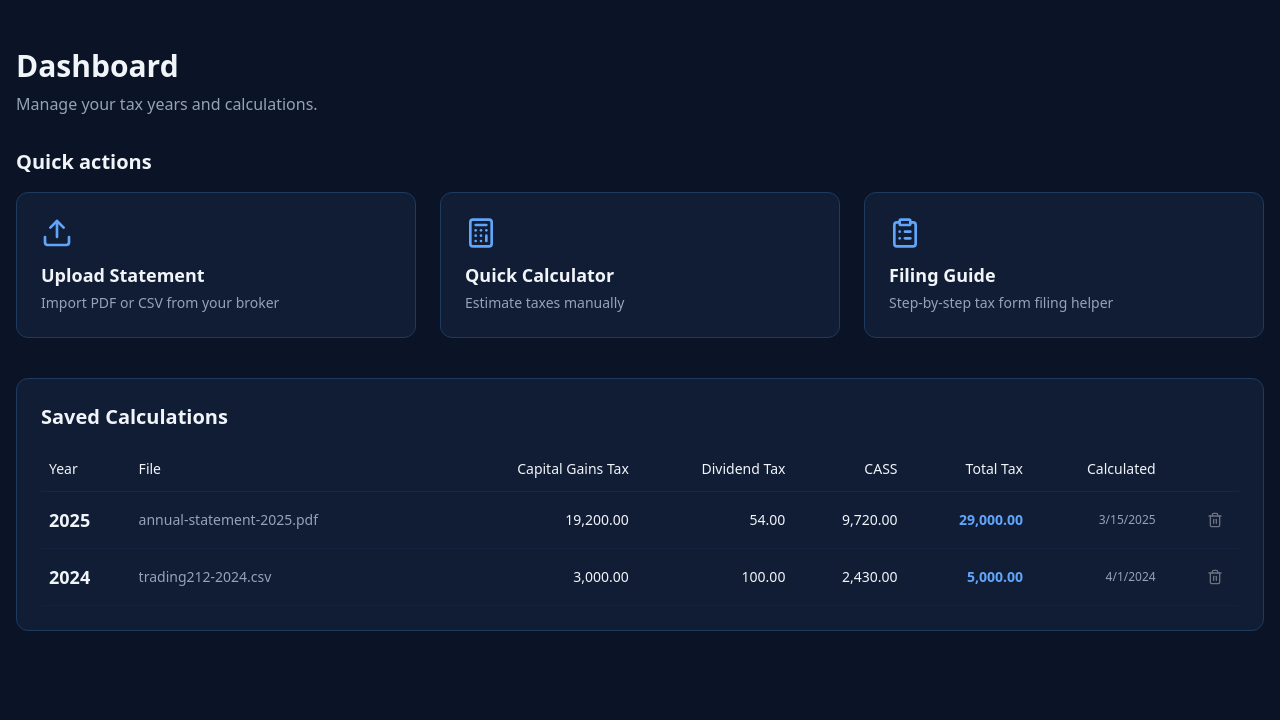
Scenario: Dashboard › deletes a tax year when delete button is clicked
Check: the text "2025" is shown, box [41,492,131,548]
Click first delete button
Click the button titled "Delete" in the row of "annual-statement-2025.pdf" at (1215, 520), box [1199,504,1231,536]
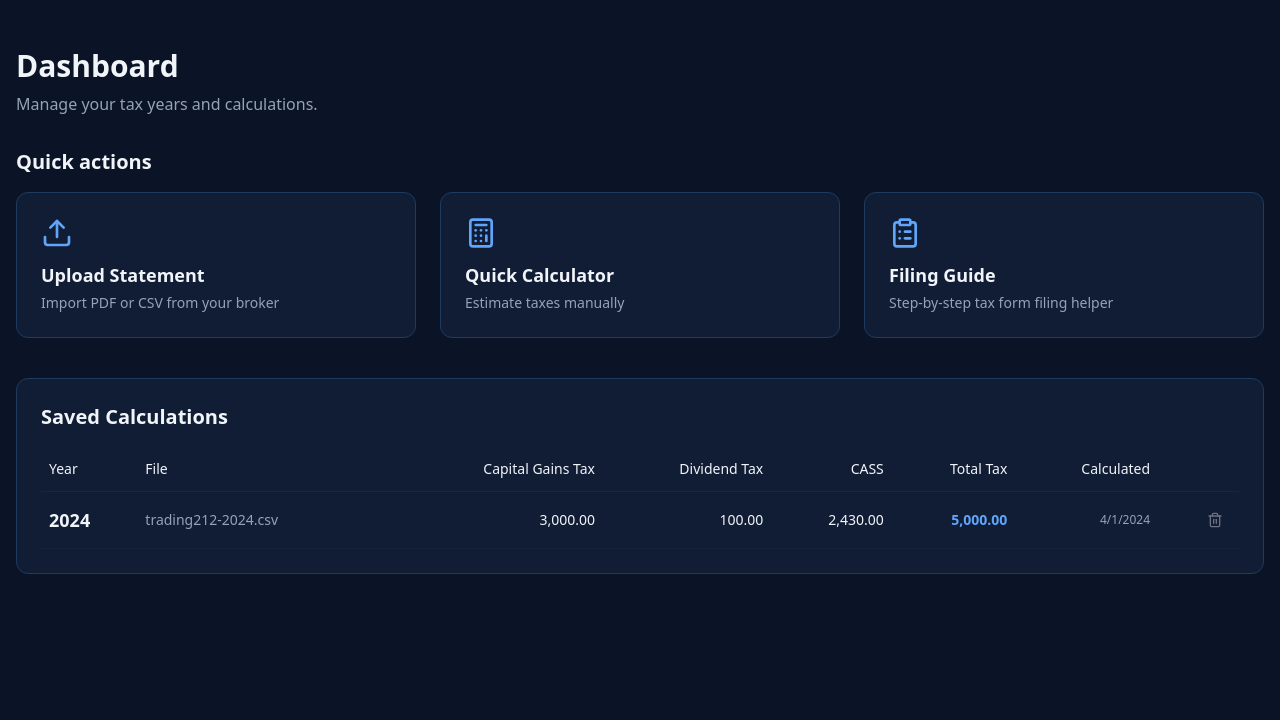
Check: the text "2025" is gone
